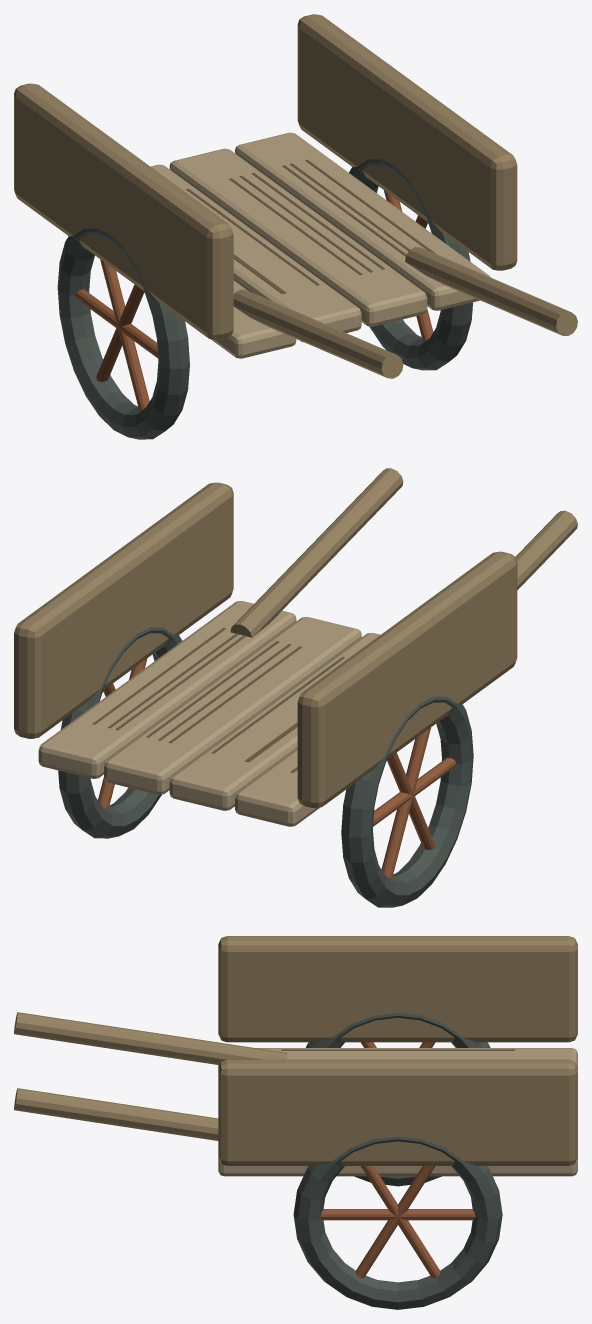
Rendered from Abandoned_Handcart_Barren.glb.
The picture shows the model from 3 angles, top to bottom: view 1: azimuth 30°, elevation 25°; view 2: azimuth 150°, elevation 25°; view 3: azimuth 270°, elevation 25°; orthographic projection. The views are drawn at different scales.
Parts seen in each view (by area): view 1: Structure; view 2: Structure; view 3: Structure.
Boxes of the visible parts, box(x1,y1,x2,y2) form: Structure: box(14, 14, 577, 439); Structure: box(14, 468, 577, 907); Structure: box(14, 936, 577, 1309).
Bounding box in the file's own units: 1.43 × 1.22 × 2.51.
